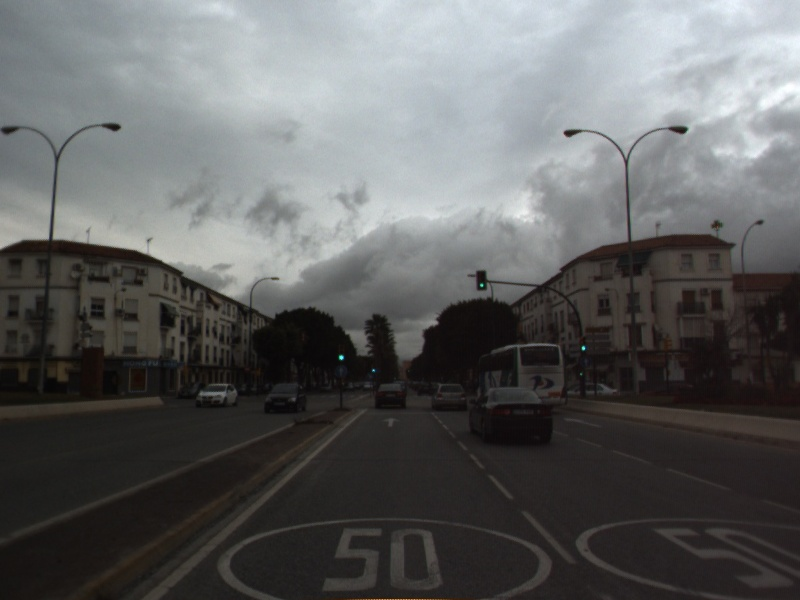STRAIGHT: (562, 415, 604, 430), (381, 415, 402, 429)
